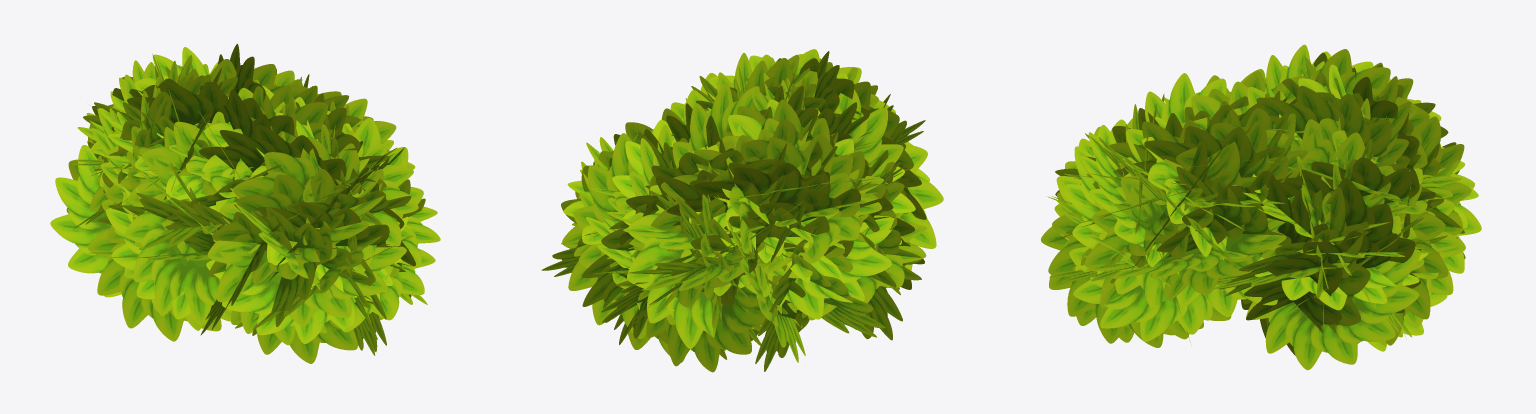
File: Bush2.fbx
The picture shows the model from 3 angles, left to right: view 1: azimuth 30°, elevation 25°; view 2: azimuth 150°, elevation 25°; view 3: azimuth 270°, elevation 25°; orthographic projection. The views are drawn at different scales.
Visible parts, largest first — view 1: Bush2; view 2: Bush2; view 3: Bush2.
Part boxes in pixels (x1=…): Bush2: x1=50, y1=44, x2=440, y2=363; Bush2: x1=541, y1=49, x2=943, y2=372; Bush2: x1=1041, y1=44, x2=1481, y2=370.
Size of the model in its own units: 1471 by 1154 by 1733.
